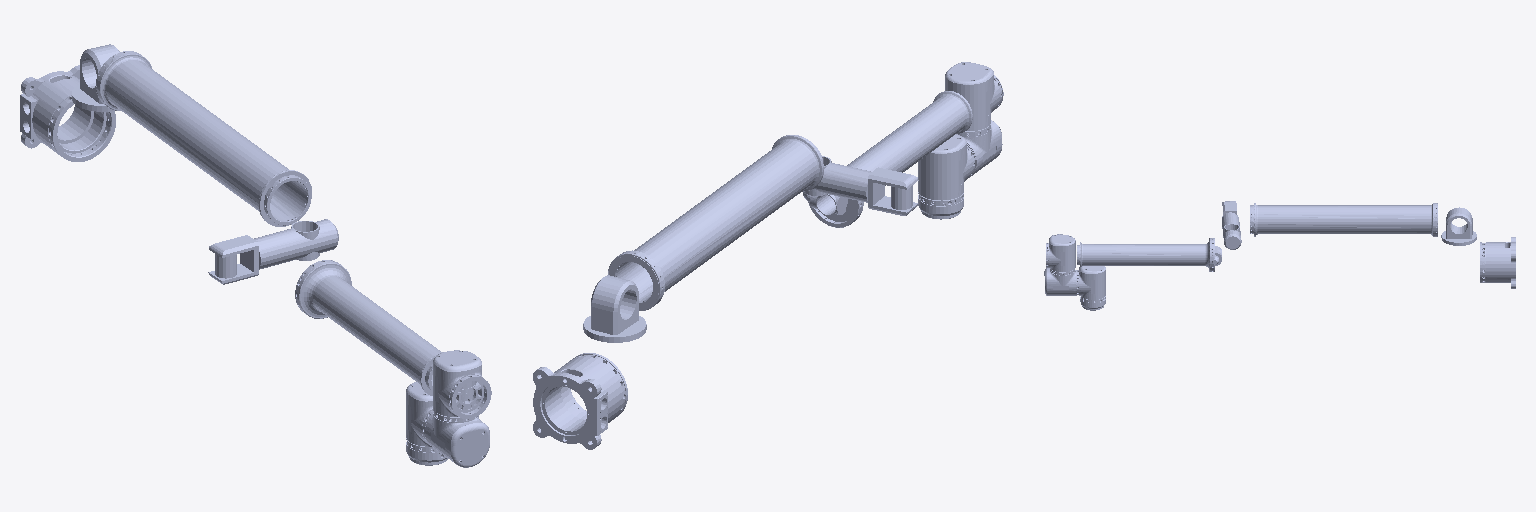
The robot description file, URDF, robot "Cobot":
<?xml version="1.0" encoding="utf-8"?>
<!-- This URDF was automatically created by SolidWorks to URDF Exporter! Originally created by [author] ([email redacted]) 
     Commit Version: 1.6.0-4-g7f85cfe  Build Version: 1.6.7995.38578
     For more information, please see http://wiki.ros.org/sw_urdf_exporter -->
<robot
  name="Cobot">
  <link
    name="base_link">
    <inertial>
      <origin
        xyz="0.026936 -0.025374 0.014307"
        rpy="0 0 0" />
      <mass
        value="0.50256" />
      <inertia
        ixx="0.001031"
        ixy="-2.5013E-08"
        ixz="-4.528E-07"
        iyy="0.0010578"
        iyz="-1E-05"
        izz="0.0013307" />
    </inertial>
    <visual>
      <origin
        xyz="0 0 0"
        rpy="0 0 0" />
      <geometry>
        <mesh
          filename="package://Cobot/meshes/base_link.STL" />
      </geometry>
      <material
        name="">
        <color
          rgba="0.79216 0.81961 0.93333 1" />
      </material>
    </visual>
    <collision>
      <origin
        xyz="0 0 0"
        rpy="0 0 0" />
      <geometry>
        <mesh
          filename="package://Cobot/meshes/base_link.STL" />
      </geometry>
    </collision>
  </link>
  <link
    name="link_1">
    <inertial>
      <origin
        xyz="8.2084E-06 0.0056862 0.04653"
        rpy="0 0 0" />
      <mass
        value="1.1062" />
      <inertia
        ixx="0.0023108"
        ixy="7.4008E-07"
        ixz="-3.0649E-07"
        iyy="0.0022029"
        iyz="-8.3386E-05"
        izz="0.0020865" />
    </inertial>
    <visual>
      <origin
        xyz="0 0 0"
        rpy="0 0 0" />
      <geometry>
        <mesh
          filename="package://Cobot/meshes/link_1.STL" />
      </geometry>
      <material
        name="">
        <color
          rgba="0.79216 0.81961 0.93333 1" />
      </material>
    </visual>
    <collision>
      <origin
        xyz="0 0 0"
        rpy="0 0 0" />
      <geometry>
        <mesh
          filename="package://Cobot/meshes/link_1.STL" />
      </geometry>
    </collision>
  </link>
  <joint
    name="joint_1"
    type="revolute">
    <origin
      xyz="0.026885 -0.072252 -0.024385"
      rpy="1.5708 0 0" />
    <parent
      link="base_link" />
    <child
      link="link_1" />
    <axis
      xyz="0 0 0" />
    <limit
      lower="0"
      upper="0"
      effort="0"
      velocity="0" />
  </joint>
  <link
    name="link_2">
    <inertial>
      <origin
        xyz="8.1423E-06 0.0056863 0.04653"
        rpy="0 0 0" />
      <mass
        value="1.1062" />
      <inertia
        ixx="0.0023108"
        ixy="7.4261E-07"
        ixz="-3.0953E-07"
        iyy="0.0022029"
        iyz="-8.338E-05"
        izz="0.0020865" />
    </inertial>
    <visual>
      <origin
        xyz="0 0 0"
        rpy="0 0 0" />
      <geometry>
        <mesh
          filename="package://Cobot/meshes/link_2.STL" />
      </geometry>
      <material
        name="">
        <color
          rgba="0.79216 0.81961 0.93333 1" />
      </material>
    </visual>
    <collision>
      <origin
        xyz="0 0 0"
        rpy="0 0 0" />
      <geometry>
        <mesh
          filename="package://Cobot/meshes/link_2.STL" />
      </geometry>
    </collision>
  </link>
  <joint
    name="joint_2"
    type="revolute">
    <origin
      xyz="0 0.076 0.058"
      rpy="1.5708 0 -3.1416" />
    <parent
      link="link_1" />
    <child
      link="link_2" />
    <axis
      xyz="0 0 0" />
    <limit
      lower="0"
      upper="0"
      effort="0"
      velocity="0" />
  </joint>
  <link
    name="link_3">
    <inertial>
      <origin
        xyz="9.6453E-06 -0.046523 5.4853E-11"
        rpy="0 0 0" />
      <mass
        value="0.80391" />
      <inertia
        ixx="0.02124"
        ixy="8.3935E-07"
        ixz="9.4835E-13"
        iyy="0.0011939"
        iyz="7.3065E-12"
        izz="0.02124" />
    </inertial>
    <visual>
      <origin
        xyz="0 0 0"
        rpy="0 0 0" />
      <geometry>
        <mesh
          filename="package://Cobot/meshes/link_3.STL" />
      </geometry>
      <material
        name="">
        <color
          rgba="0.79216 0.81961 0.93333 1" />
      </material>
    </visual>
    <collision>
      <origin
        xyz="0 0 0"
        rpy="0 0 0" />
      <geometry>
        <mesh
          filename="package://Cobot/meshes/link_3.STL" />
      </geometry>
    </collision>
  </link>
  <joint
    name="joint_3"
    type="revolute">
    <origin
      xyz="0 0.365 0.058"
      rpy="0 -0.3927 0" />
    <parent
      link="link_2" />
    <child
      link="link_3" />
    <axis
      xyz="0 0 0" />
    <limit
      lower="0"
      upper="0"
      effort="0"
      velocity="0" />
  </joint>
  <link
    name="link_4">
    <inertial>
      <origin
        xyz="-3.2056E-05 0.0037095 -0.042471"
        rpy="0 0 0" />
      <mass
        value="0.7084" />
      <inertia
        ixx="0.00099679"
        ixy="-8.0271E-08"
        ixz="-1.0147E-06"
        iyy="0.00096064"
        iyz="1.6132E-05"
        izz="0.00094514" />
    </inertial>
    <visual>
      <origin
        xyz="0 0 0"
        rpy="0 0 0" />
      <geometry>
        <mesh
          filename="package://Cobot/meshes/link_4.STL" />
      </geometry>
      <material
        name="">
        <color
          rgba="0.79216 0.81961 0.93333 1" />
      </material>
    </visual>
    <collision>
      <origin
        xyz="0 0 0"
        rpy="0 0 0" />
      <geometry>
        <mesh
          filename="package://Cobot/meshes/link_4.STL" />
      </geometry>
    </collision>
  </link>
  <joint
    name="fix_joint"
    type="fixed">
    <origin
      xyz="-0.018369 0.276 -0.044346"
      rpy="-3.1416 0.3927 0" />
    <parent
      link="link_3" />
    <child
      link="link_4" />
    <axis
      xyz="0 0 0" />
  </joint>
  <link
    name="link_5">
    <inertial>
      <origin
        xyz="-3.2056E-05 0.0037095 -0.042471"
        rpy="0 0 0" />
      <mass
        value="0.7084" />
      <inertia
        ixx="0.00099679"
        ixy="-8.0271E-08"
        ixz="-1.0147E-06"
        iyy="0.00096064"
        iyz="1.6132E-05"
        izz="0.00094514" />
    </inertial>
    <visual>
      <origin
        xyz="0 0 0"
        rpy="0 0 0" />
      <geometry>
        <mesh
          filename="package://Cobot/meshes/link_5.STL" />
      </geometry>
      <material
        name="">
        <color
          rgba="0.79216 0.81961 0.93333 1" />
      </material>
    </visual>
    <collision>
      <origin
        xyz="0 0 0"
        rpy="0 0 0" />
      <geometry>
        <mesh
          filename="package://Cobot/meshes/link_5.STL" />
      </geometry>
    </collision>
  </link>
  <joint
    name="joint_4"
    type="revolute">
    <origin
      xyz="0 -0.048 0.062"
      rpy="-1.5708 0 3.1416" />
    <parent
      link="link_4" />
    <child
      link="link_5" />
    <axis
      xyz="0 0 0" />
    <limit
      lower="0"
      upper="0"
      effort="0"
      velocity="0" />
  </joint>
  <link
    name="link_6">
    <inertial>
      <origin
        xyz="0.010014 -0.18375 5.0563E-10"
        rpy="0 0 0" />
      <mass
        value="0.57116" />
      <inertia
        ixx="0.0082458"
        ixy="-1.0236E-06"
        ixz="8.6524E-12"
        iyy="0.00047299"
        iyz="-3.5548E-11"
        izz="0.008246" />
    </inertial>
    <visual>
      <origin
        xyz="0 0 0"
        rpy="0 0 0" />
      <geometry>
        <mesh
          filename="package://Cobot/meshes/link_6.STL" />
      </geometry>
      <material
        name="">
        <color
          rgba="0.79216 0.81961 0.93333 1" />
      </material>
    </visual>
    <collision>
      <origin
        xyz="0 0 0"
        rpy="0 0 0" />
      <geometry>
        <mesh
          filename="package://Cobot/meshes/link_6.STL" />
      </geometry>
    </collision>
  </link>
  <joint
    name="joint_5"
    type="revolute">
    <origin
      xyz="0 0.01 0"
      rpy="-1.5708 0 -1.5708" />
    <parent
      link="link_5" />
    <child
      link="link_6" />
    <axis
      xyz="0 0 0" />
    <limit
      lower="0"
      upper="0"
      effort="0"
      velocity="0" />
  </joint>
  <link
    name="link_7">
    <inertial>
      <origin
        xyz="-7.79153405885517E-05 -0.00368819444239032 -0.00290799913670477"
        rpy="0 0 0" />
      <mass
        value="0.323306323693222" />
      <inertia
        ixx="0.000284214298189796"
        ixy="6.30638844213108E-08"
        ixz="7.91631564948107E-07"
        iyy="0.000268339988354438"
        iyz="2.90444969974964E-06"
        izz="0.000268136508419621" />
    </inertial>
    <visual>
      <origin
        xyz="0 0 0"
        rpy="0 0 0" />
      <geometry>
        <mesh
          filename="package://Cobot/meshes/link_7.STL" />
      </geometry>
      <material
        name="">
        <color
          rgba="0.792156862745098 0.819607843137255 0.933333333333333 1" />
      </material>
    </visual>
    <collision>
      <origin
        xyz="0 0 0"
        rpy="0 0 0" />
      <geometry>
        <mesh
          filename="package://Cobot/meshes/link_7.STL" />
      </geometry>
    </collision>
  </link>
  <joint
    name="fix_joint_2"
    type="revolute">
    <origin
      xyz="0.01 -0.43 0"
      rpy="0 -1.5708 0" />
    <parent
      link="link_6" />
    <child
      link="link_7" />
    <axis
      xyz="0 0 0" />
    <limit
      lower="0"
      upper="0"
      effort="0"
      velocity="0" />
  </joint>
  <link
    name="link_8">
    <inertial>
      <origin
        xyz="-7.791522736178E-05 -0.00368819421517035 -0.00290799885931525"
        rpy="0 0 0" />
      <mass
        value="0.323306324607377" />
      <inertia
        ixx="0.000284214294696337"
        ixy="6.30622047056061E-08"
        ixz="7.91629170963867E-07"
        iyy="0.000268339989519911"
        iyz="2.90444946780432E-06"
        izz="0.000268136508211968" />
    </inertial>
    <visual>
      <origin
        xyz="0 0 0"
        rpy="0 0 0" />
      <geometry>
        <mesh
          filename="package://Cobot/meshes/link_8.STL" />
      </geometry>
      <material
        name="">
        <color
          rgba="0.792156862745098 0.819607843137255 0.933333333333333 1" />
      </material>
    </visual>
    <collision>
      <origin
        xyz="0 0 0"
        rpy="0 0 0" />
      <geometry>
        <mesh
          filename="package://Cobot/meshes/link_8.STL" />
      </geometry>
    </collision>
  </link>
  <joint
    name="joint_6"
    type="revolute">
    <origin
      xyz="0 0 -0.086"
      rpy="-1.5708 0 3.1416" />
    <parent
      link="link_7" />
    <child
      link="link_8" />
    <axis
      xyz="0 0 0" />
    <limit
      lower="0"
      upper="0"
      effort="0"
      velocity="0" />
  </joint>
  <link
    name="link_9">
    <inertial>
      <origin
        xyz="-7.79156612488834E-05 -0.00368819425960698 -0.00290799920267233"
        rpy="0 0 0" />
      <mass
        value="0.323306321695801" />
      <inertia
        ixx="0.000284214294569284"
        ixy="6.30604388122877E-08"
        ixz="7.91630147356355E-07"
        iyy="0.000268339986427775"
        iyz="2.90444900053024E-06"
        izz="0.000268136506586483" />
    </inertial>
    <visual>
      <origin
        xyz="0 0 0"
        rpy="0 0 0" />
      <geometry>
        <mesh
          filename="package://Cobot/meshes/link_9.STL" />
      </geometry>
      <material
        name="">
        <color
          rgba="0.792156862745098 0.819607843137255 0.933333333333333 1" />
      </material>
    </visual>
    <collision>
      <origin
        xyz="0 0 0"
        rpy="0 0 0" />
      <geometry>
        <mesh
          filename="package://Cobot/meshes/link_9.STL" />
      </geometry>
    </collision>
  </link>
  <joint
    name="joint_7"
    type="revolute">
    <origin
      xyz="0 0 -0.086"
      rpy="-1.5708 0 3.1416" />
    <parent
      link="link_8" />
    <child
      link="link_9" />
    <axis
      xyz="0 0 0" />
    <limit
      lower="0"
      upper="0"
      effort="0"
      velocity="0" />
  </joint>
  <link
    name="end_link">
    <inertial>
      <origin
        xyz="-7.136E-09 0.015145 -0.00019734"
        rpy="0 0 0" />
      <mass
        value="0.084156" />
      <inertia
        ixx="3.8952E-05"
        ixy="6.6489E-12"
        ixz="-6.6266E-12"
        iyy="6.5732E-05"
        iyz="-1.6666E-08"
        izz="3.9866E-05" />
    </inertial>
    <visual>
      <origin
        xyz="0 0 0"
        rpy="0 0 0" />
      <geometry>
        <mesh
          filename="package://Cobot/meshes/end_link.STL" />
      </geometry>
      <material
        name="">
        <color
          rgba="0.79216 0.81961 0.93333 1" />
      </material>
    </visual>
    <collision>
      <origin
        xyz="0 0 0"
        rpy="0 0 0" />
      <geometry>
        <mesh
          filename="package://Cobot/meshes/end_link.STL" />
      </geometry>
    </collision>
  </link>
  <joint
    name="fix_joint_3"
    type="fixed">
    <origin
      xyz="0 0 -0.0725"
      rpy="1.5708 0 0.14012" />
    <parent
      link="link_9" />
    <child
      link="end_link" />
    <axis
      xyz="0 0 0" />
  </joint>
</robot>

--- What the picture shows (computed from the rendered views, not written in the file) ---
3 views of the same robot in one strip: view 1: azimuth 30°, elevation 25°; view 2: azimuth 150°, elevation 25°; view 3: azimuth 270°, elevation 25° (orthographic).
Robot: Cobot — 11 links, 10 joints (8 revolute, 2 fixed); root link base_link; default pose: all joints at 0.
Links seen in each view (by area): view 1: link_3, link_6, base_link, link_4, link_7, link_8, link_2, link_9, end_link; view 2: link_3, base_link, link_6, link_4, link_2, link_9, link_7, link_8, end_link, link_5; view 3: link_3, link_6, base_link, link_7, link_9, link_2, link_8, link_4.
Link boxes in pixels (x1,y1,x2,y2): link_3: (96, 51, 311, 226); link_6: (295, 260, 442, 395); base_link: (20, 65, 115, 161); link_4: (208, 219, 338, 284); link_7: (433, 350, 491, 419); link_8: (425, 409, 489, 467); link_2: (72, 44, 119, 111); link_9: (406, 382, 433, 448); end_link: (406, 438, 447, 465); link_3: (608, 135, 823, 310); base_link: (533, 353, 627, 449); link_6: (808, 91, 972, 227); link_4: (804, 156, 918, 215); link_2: (583, 275, 646, 342); link_9: (918, 134, 975, 202); link_7: (945, 62, 1003, 133); link_8: (957, 120, 1002, 175); end_link: (918, 192, 963, 219); link_5: (803, 192, 847, 215); link_3: (1250, 203, 1437, 236); link_6: (1077, 238, 1214, 271); base_link: (1480, 237, 1515, 288); link_7: (1046, 234, 1075, 273); link_9: (1076, 266, 1105, 299); link_2: (1441, 207, 1476, 245); link_8: (1044, 268, 1077, 295); link_4: (1222, 201, 1241, 249).
Size in the robot's own frame: 0.2299 by 1.33 by 0.3175 metres.
10 mesh visuals loaded from 11 distinct referenced files (10 binary STL); not drawn: 1 (reference not matched to a file when rendering).